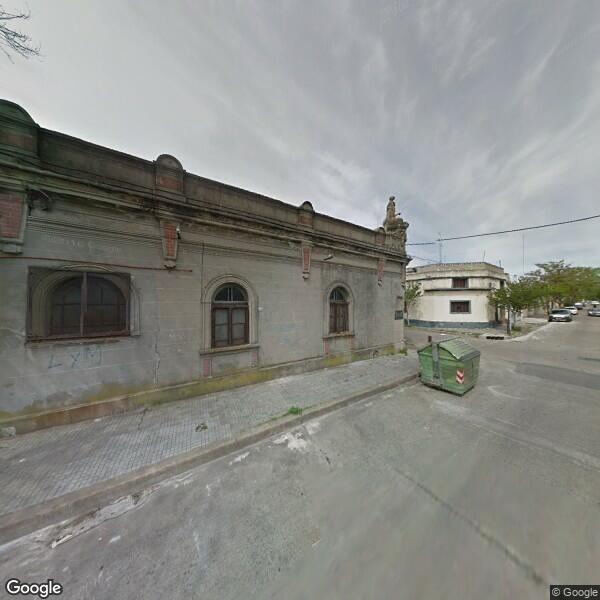Trash: (417, 332, 483, 397)
